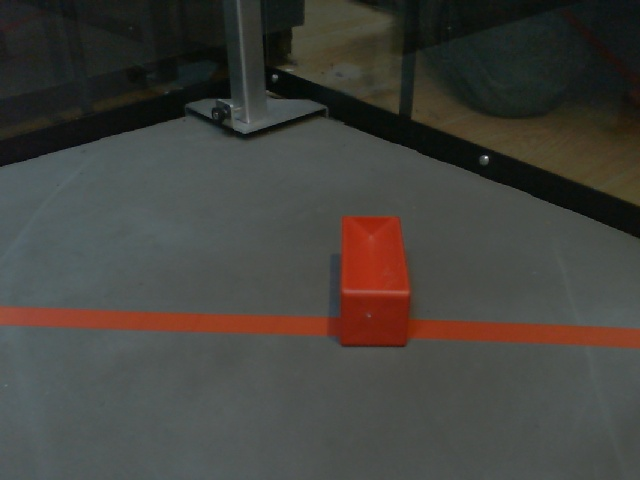RedSample: (337, 210, 412, 350)
